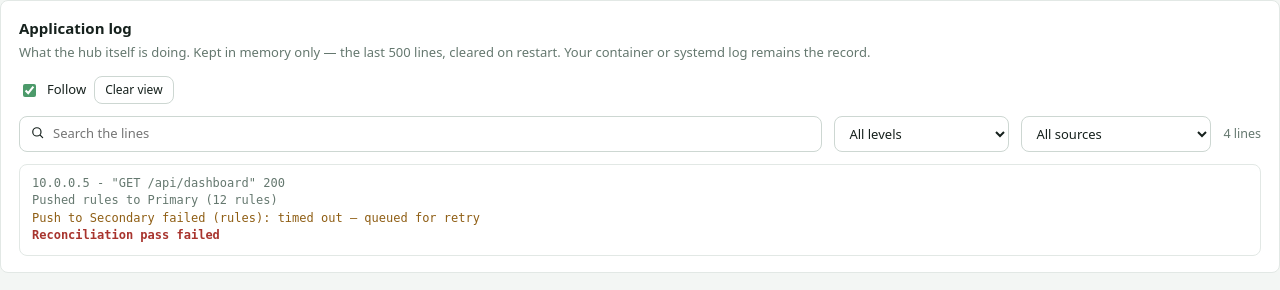
SettingsLog › says how much it is holding back, so a filter is never mistaken for a quiet hub
The width and height of the screenshot is (1280, 290).
Select "Errors only" in the dropdown named "Filter by level" at point(922, 134), box [834,116,1009,152]
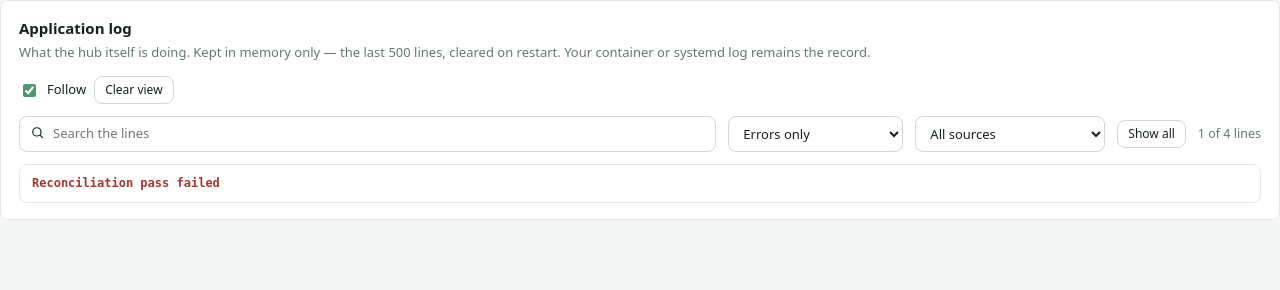
Expected: the text "1 of 4 lines" is shown, [1198,125,1261,143]
